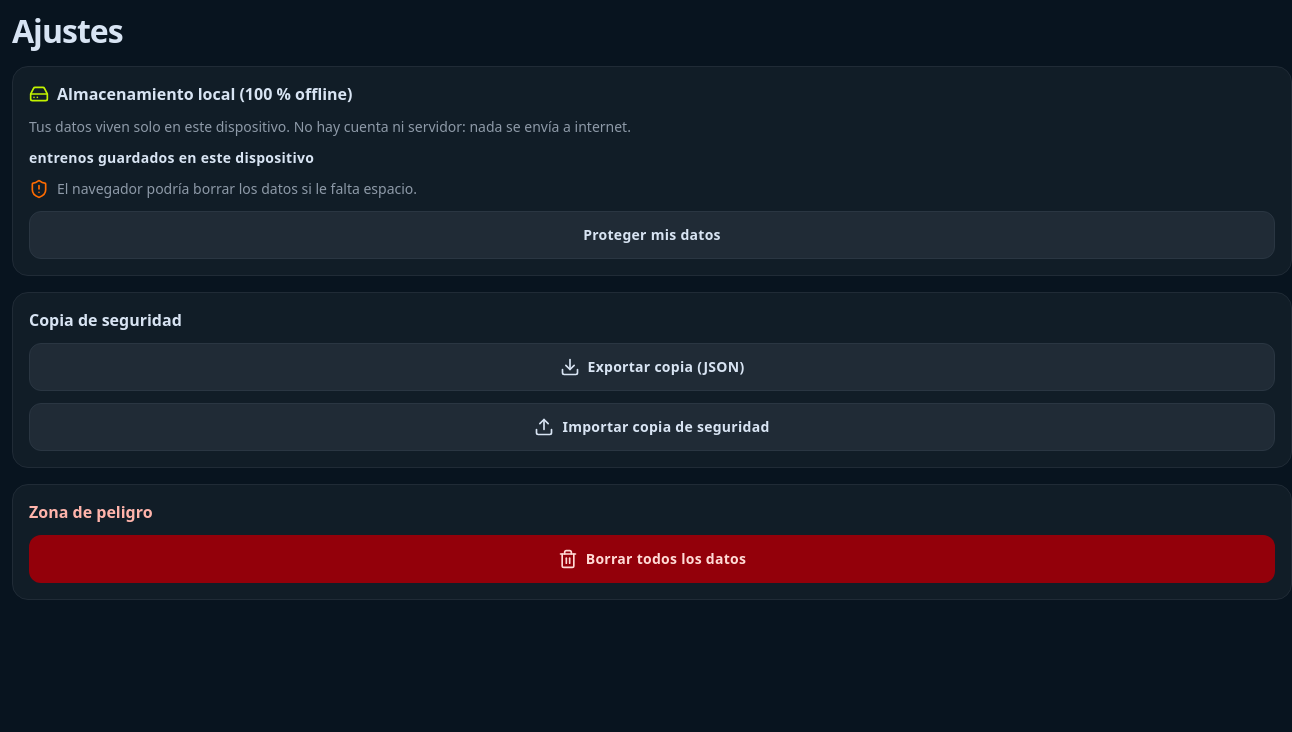
Test: SettingsPage › exporta un backup válido
Click the button "Exportar copia (JSON)" at (652, 367), box [29, 343, 1275, 391]
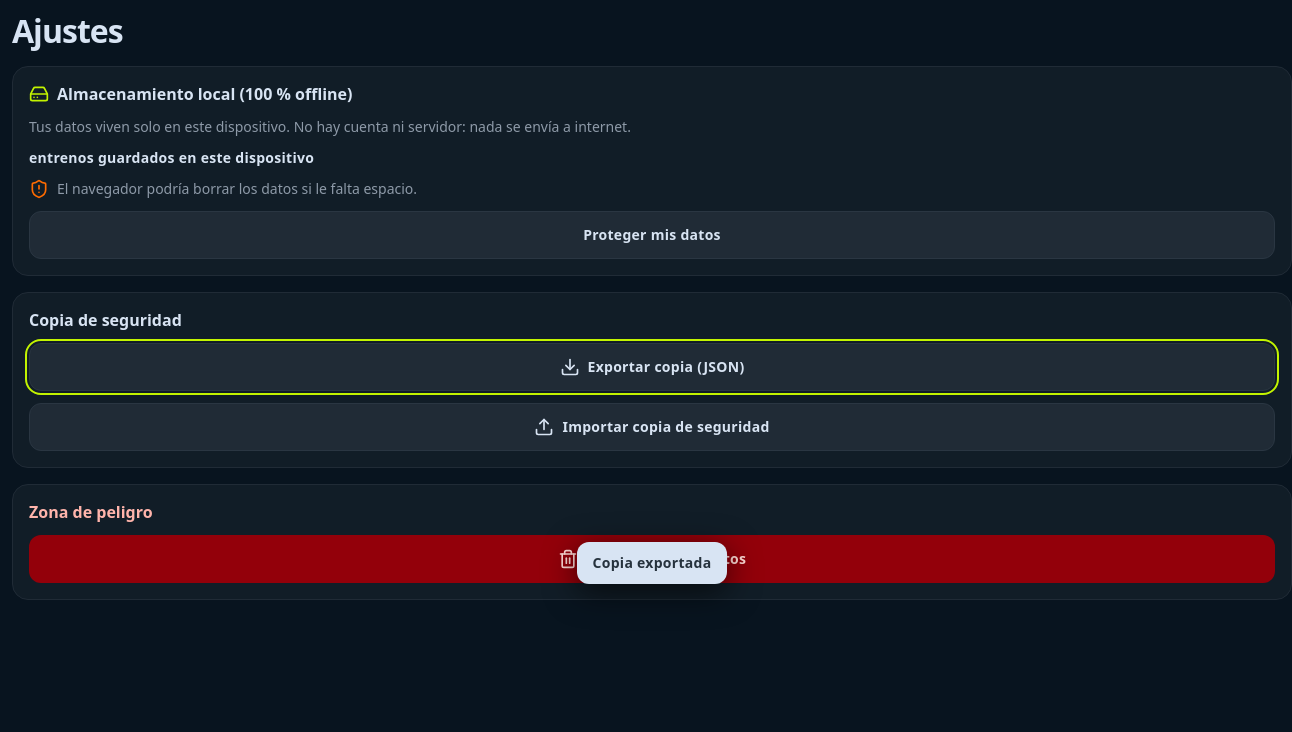
Expected: the text "Copia exportada" is shown, [577, 542, 727, 584]
